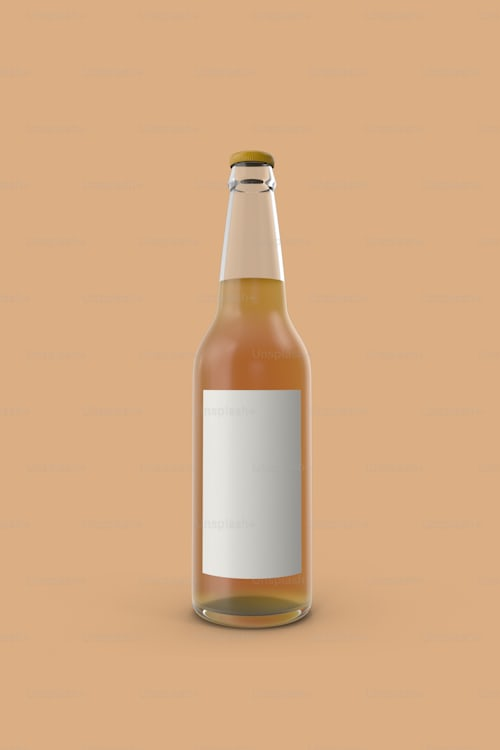Bottle: (173, 141, 340, 632)
